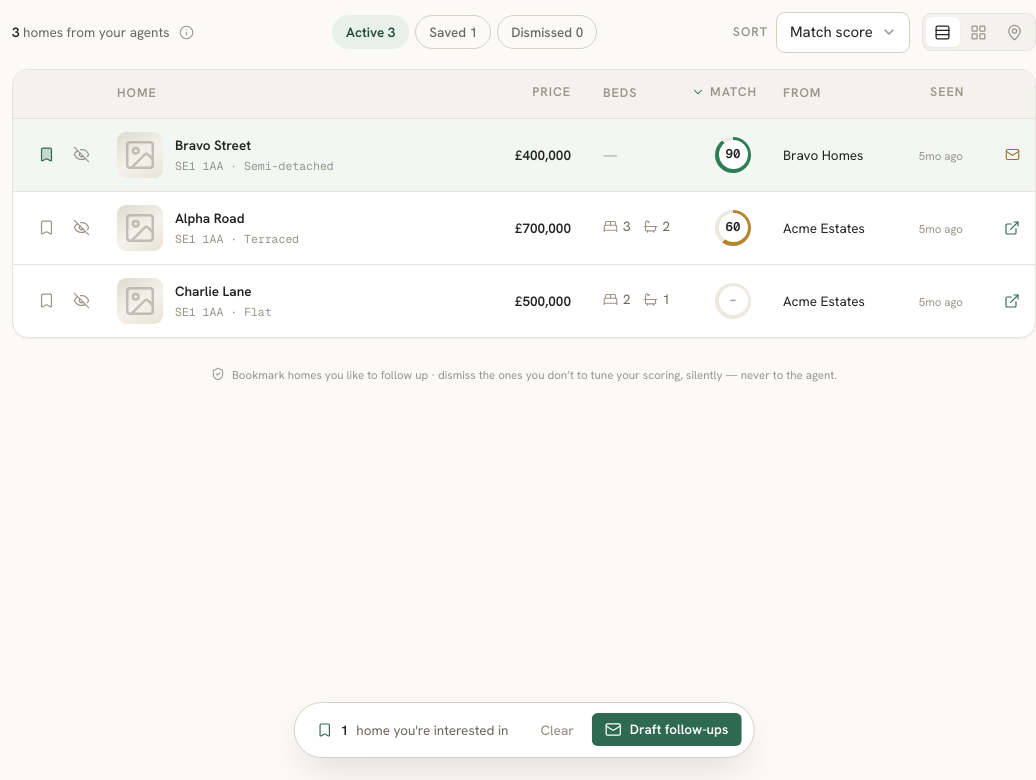
Test: ListingsPage interest + follow-ups › 'Clear' empties the bookmarks, hides the bar, and unsaves server-side
Expected: the message "1 home you're interested in Clear Draft follow-ups" is shown, [294, 702, 754, 758]
Click the button "Clear": [557, 730] box [530, 713, 584, 747]
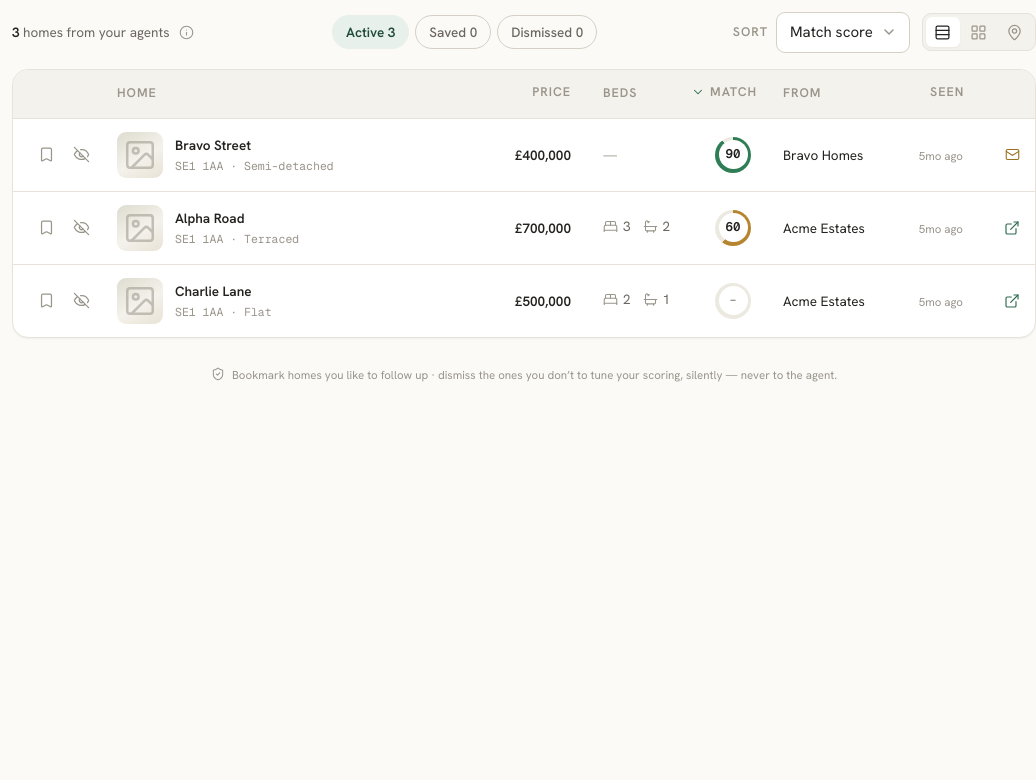
Result: the message with test id "interest-bar" is gone
